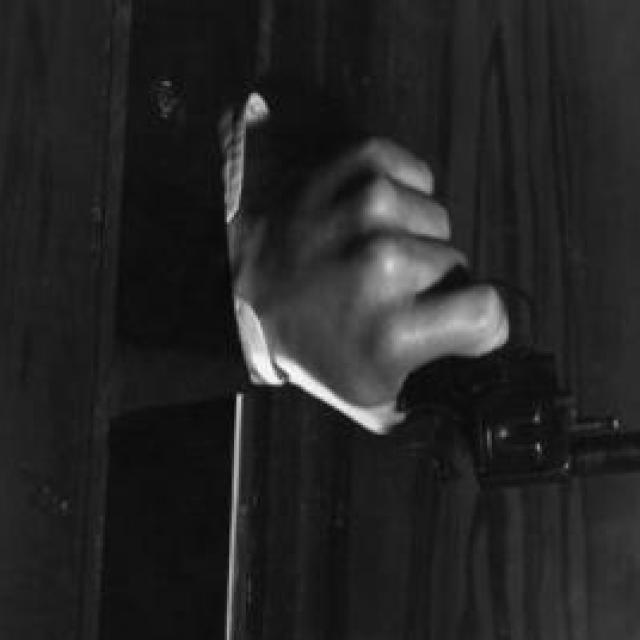pistol: (372, 280, 640, 488)
